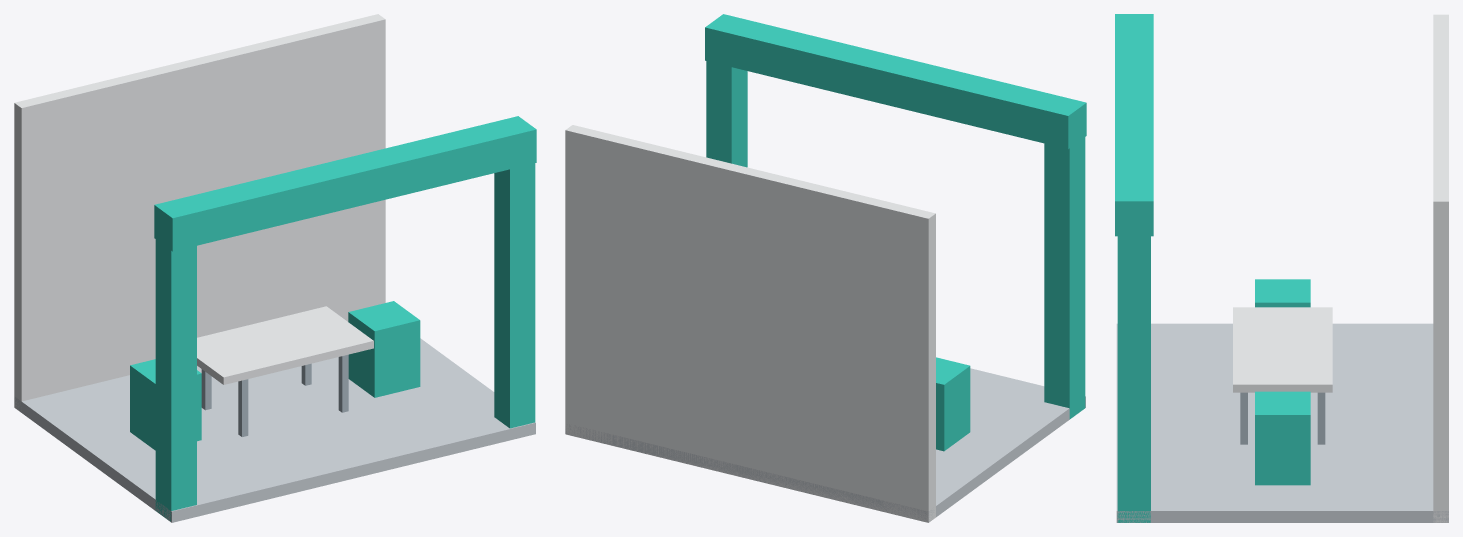
3 renders of one model, left to right at view 1: azimuth 30°, elevation 25°; view 2: azimuth 150°, elevation 25°; view 3: azimuth 270°, elevation 25°, orthographic. The views are drawn at different scales.
Visible parts, largest first — view 1: Exhibition Booth Concept; view 2: Exhibition Booth Concept; view 3: Exhibition Booth Concept.
Boxes of the visible parts, x1,y1,x2,y2 form: Exhibition Booth Concept: (14, 14, 536, 522); Exhibition Booth Concept: (565, 14, 1086, 522); Exhibition Booth Concept: (1115, 14, 1448, 522).
Bounding box in the file's own units: 4 × 3.2 × 3.01.
